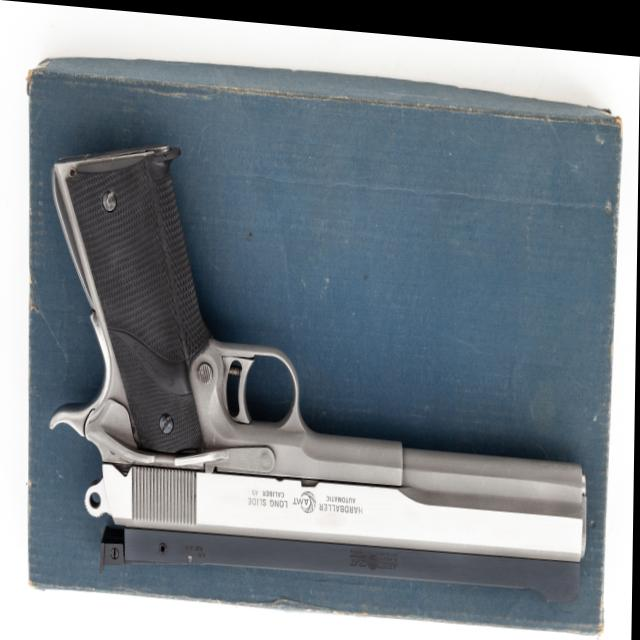handgun: (47, 136, 592, 604)
